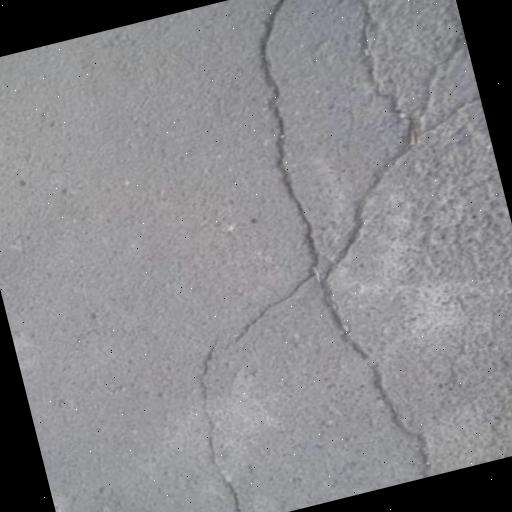spalling: (179, 0, 471, 512), (251, 0, 451, 477)
